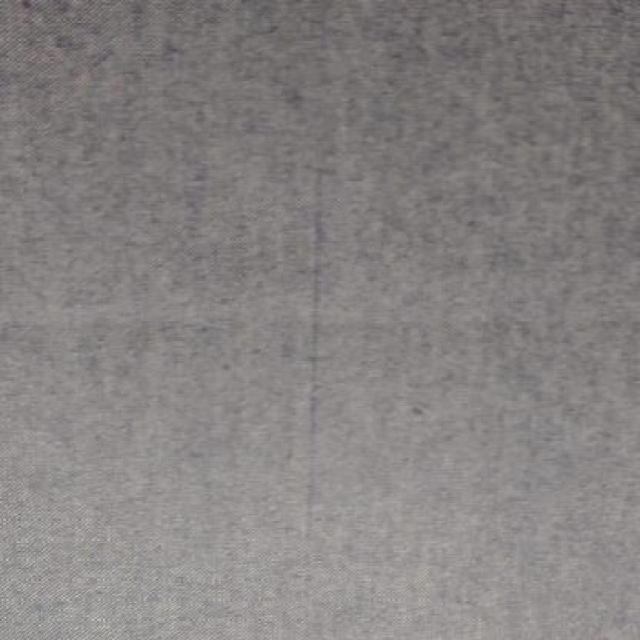pulled_or_thick_thread: (293, 116, 343, 533)
